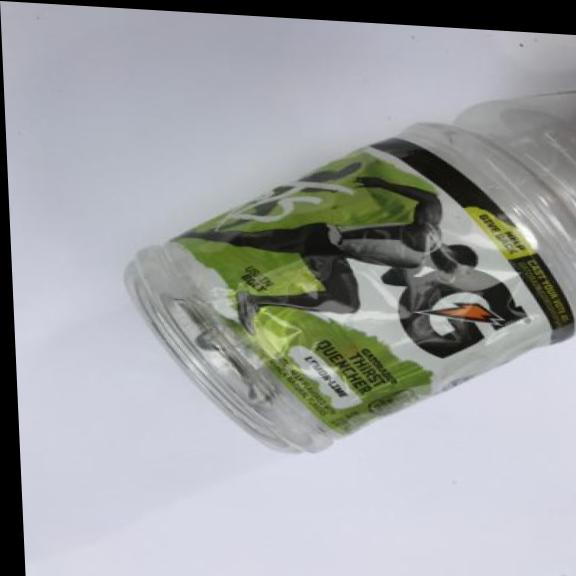Plastik: (103, 59, 576, 477)
